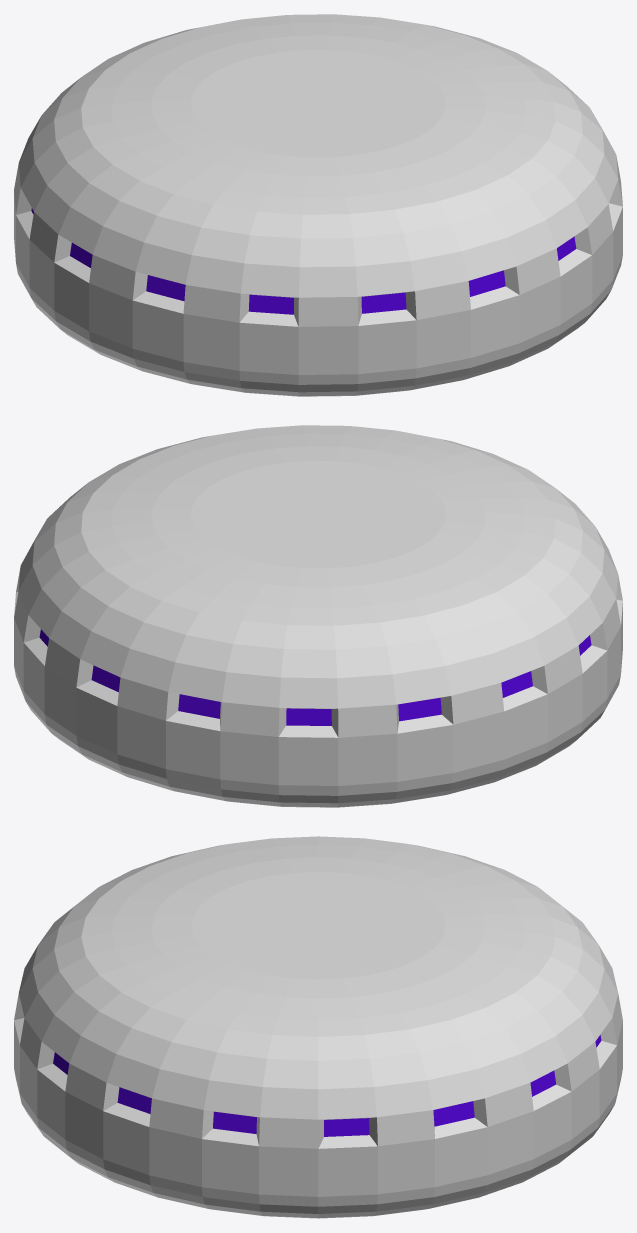
File: buidlings.fbx
The picture shows the model from 3 angles, top to bottom: view 1: azimuth 30°, elevation 25°; view 2: azimuth 150°, elevation 25°; view 3: azimuth 270°, elevation 25°; orthographic projection.
Visible parts, largest first — view 1: Cylinder; view 2: Cylinder; view 3: Cylinder.
Boxes of the visible parts, x1,y1,x2,y2 form: Cylinder: [14, 14, 622, 396]; Cylinder: [14, 425, 622, 807]; Cylinder: [14, 836, 622, 1218].
Size of the model in its own units: 540 by 173 by 540.
